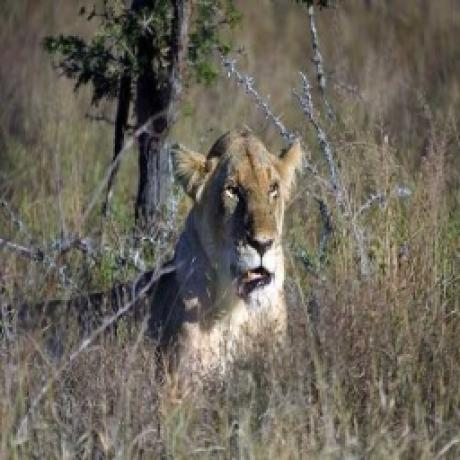Lion: (0, 121, 305, 350)
